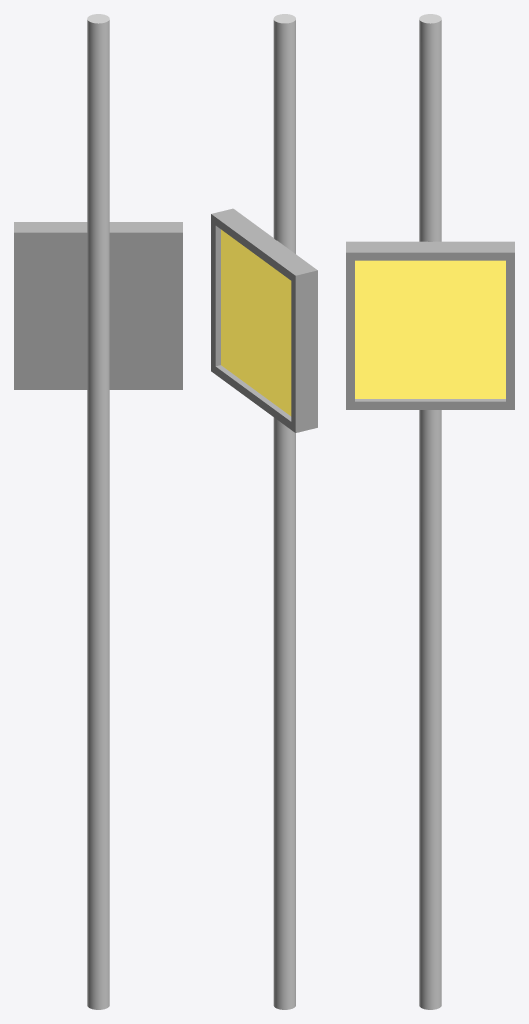
The model's file is oerk_gate_si.gltf.
3 views of the same model, side by side, from view 1: azimuth 90°, elevation 25°; view 2: azimuth 210°, elevation 25°; view 3: azimuth 270°, elevation 25° (orthographic).
Parts seen in each view (by area): view 1: Cube.012, Cylinder.001; view 2: Cylinder.001, Cube.012; view 3: Cube.012, Cylinder.001.
Part boxes in pixels (left/top/right/bottom): Cube.012: left=14, top=222, right=182, bottom=389; Cylinder.001: left=87, top=14, right=109, bottom=1009; Cylinder.001: left=273, top=14, right=295, bottom=1009; Cube.012: left=211, top=208, right=317, bottom=432; Cube.012: left=346, top=241, right=514, bottom=409; Cylinder.001: left=419, top=14, right=441, bottom=1009.
Bounding box in the file's own units: 0.3922 × 8.97 × 1.39.
